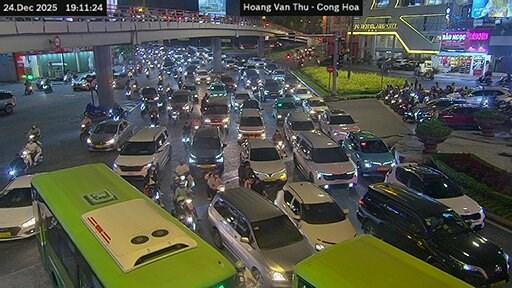motorbike: (175, 197, 198, 232), (144, 184, 162, 206), (21, 148, 41, 166), (83, 103, 108, 117), (83, 103, 108, 116), (175, 171, 194, 188), (9, 160, 25, 180), (108, 106, 127, 120), (416, 112, 432, 126), (167, 107, 179, 125), (275, 139, 285, 157), (403, 108, 415, 121), (80, 124, 89, 140), (476, 75, 490, 85), (496, 76, 511, 85), (182, 134, 189, 152), (150, 112, 159, 126), (41, 81, 51, 93), (419, 70, 432, 79), (24, 85, 32, 94), (124, 89, 131, 98), (131, 84, 137, 93), (157, 72, 162, 81), (144, 72, 149, 76), (145, 68, 149, 72)
